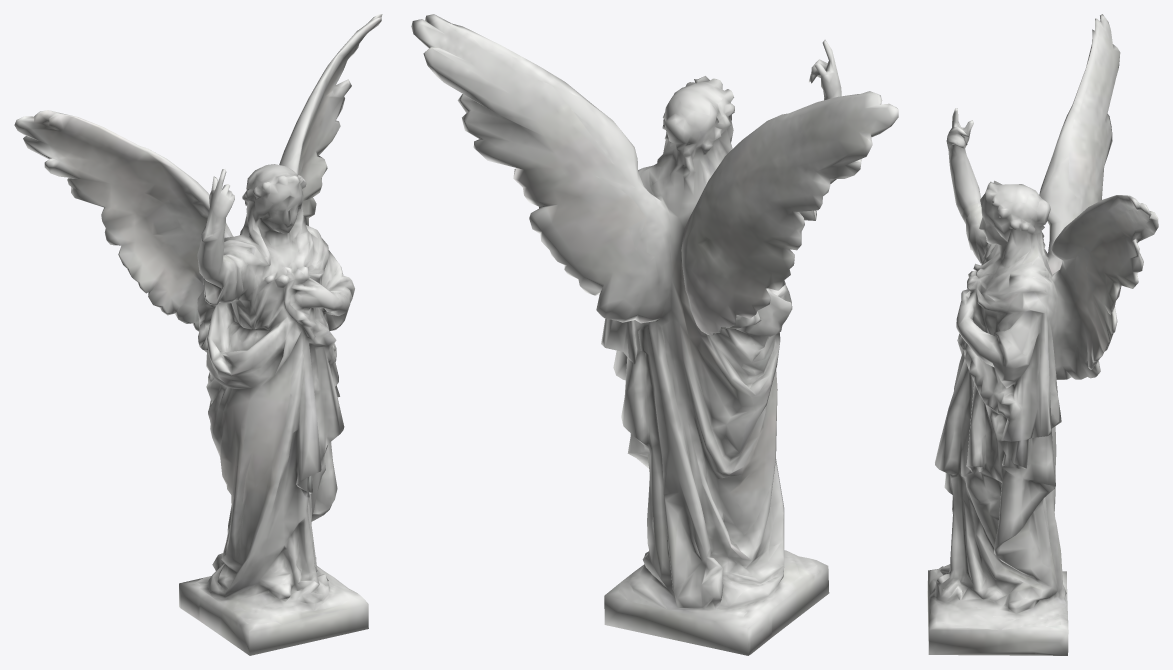
The model's file is angel-marble.glb.
3 views of the same model, side by side, from view 1: azimuth 30°, elevation 25°; view 2: azimuth 150°, elevation 25°; view 3: azimuth 270°, elevation 25° (orthographic). The views are drawn at different scales.
Parts seen in each view (by area): view 1: low; view 2: low; view 3: low.
Boxes of the visible parts, bbox=[...] form: low: bbox=[14, 14, 382, 655]; low: bbox=[411, 14, 898, 655]; low: bbox=[927, 14, 1158, 655].
Size of the model in its own units: 1.57 by 2 by 0.8081.
Materials: 1 (1 with a texture image).
